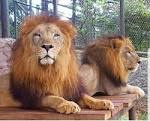lion: (3, 19, 82, 121), (78, 36, 147, 101)
